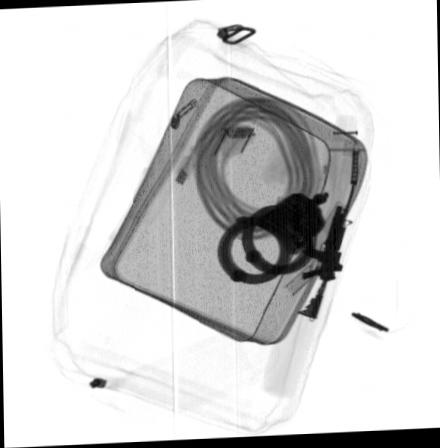Gun: (294, 147, 364, 320)
HandCuffs: (212, 191, 331, 286)
